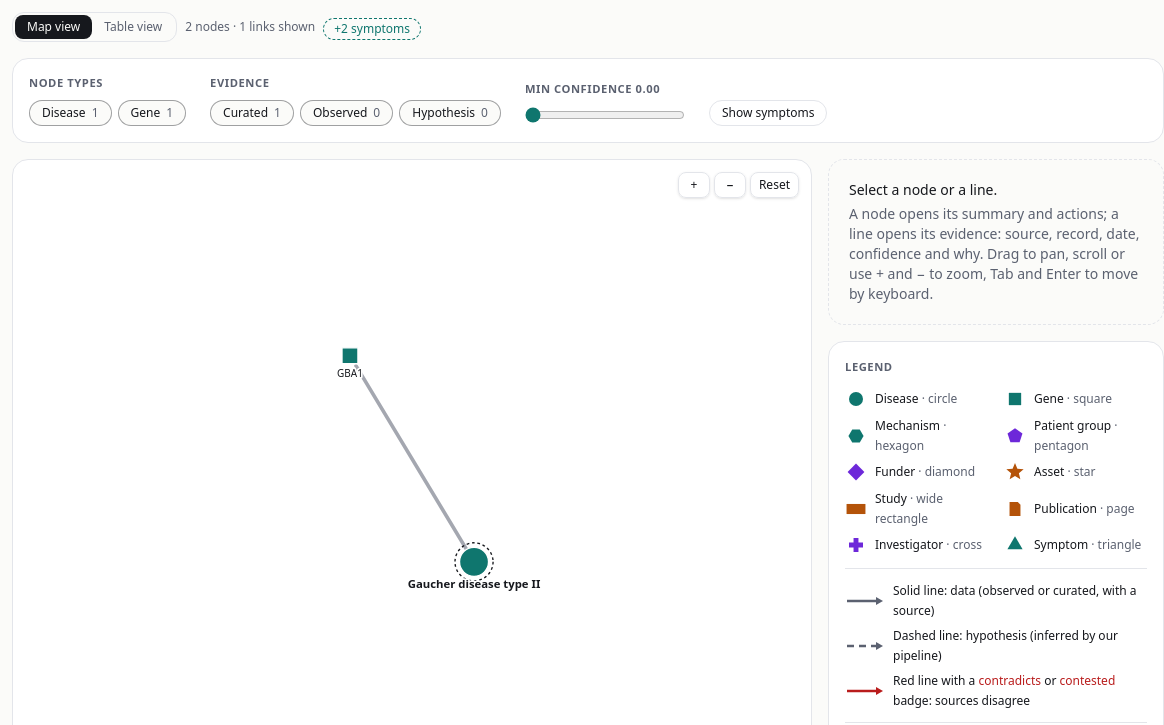
Test: EvidenceMap › lists the same nodes and links in the table view
Click the button "Table view".
click(133, 27)  # box [92,15,174,39]
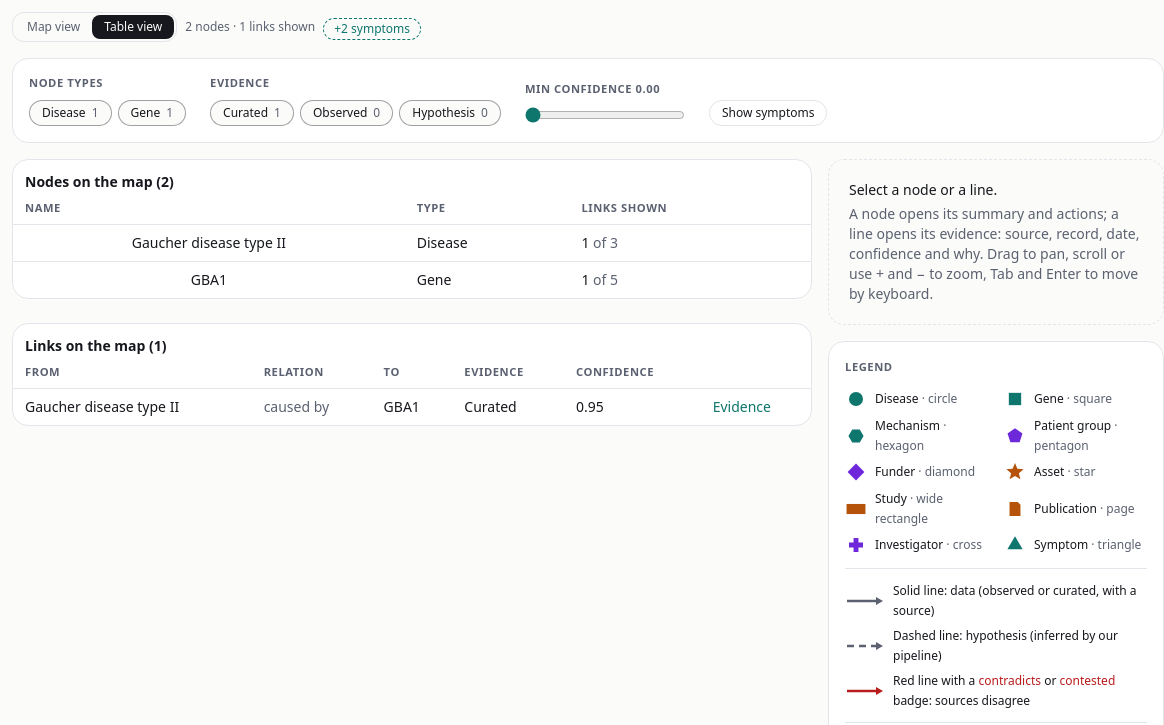
Expected: the button "GBA1" is shown, [191,270,227,290]
Click the button "Evidence".
click(742, 407)  # box [713,397,771,417]
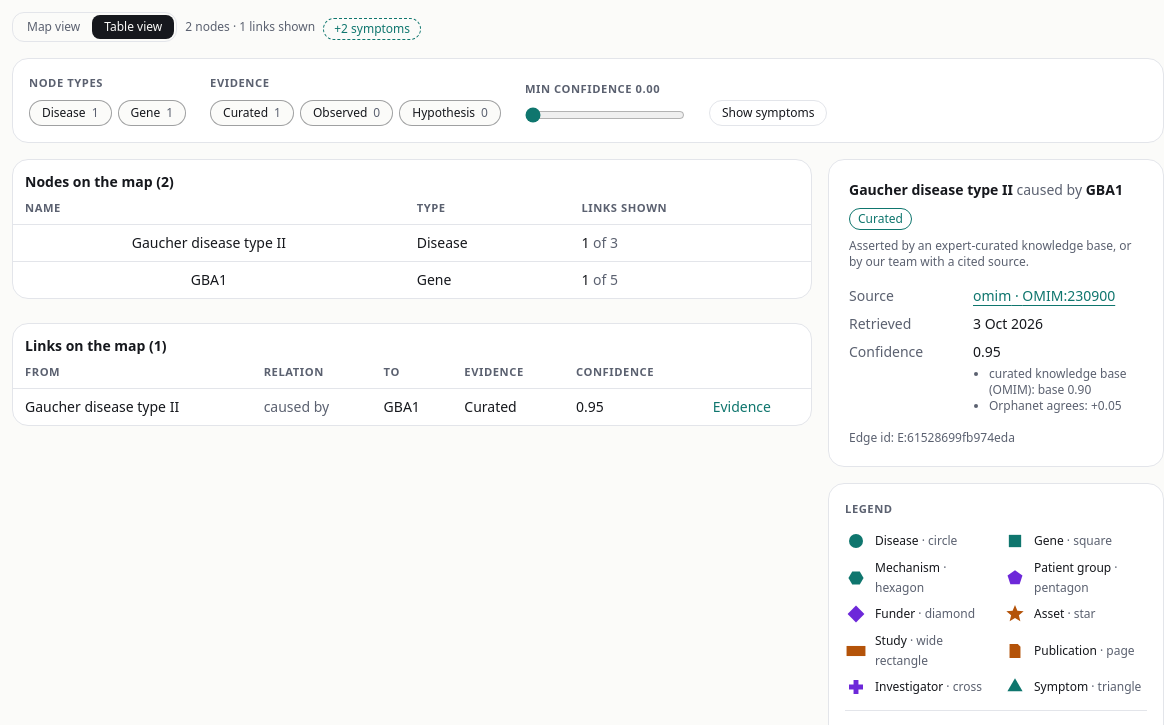
Expected: the element named "Edge evidence" is shown, [828,159,1163,467]
